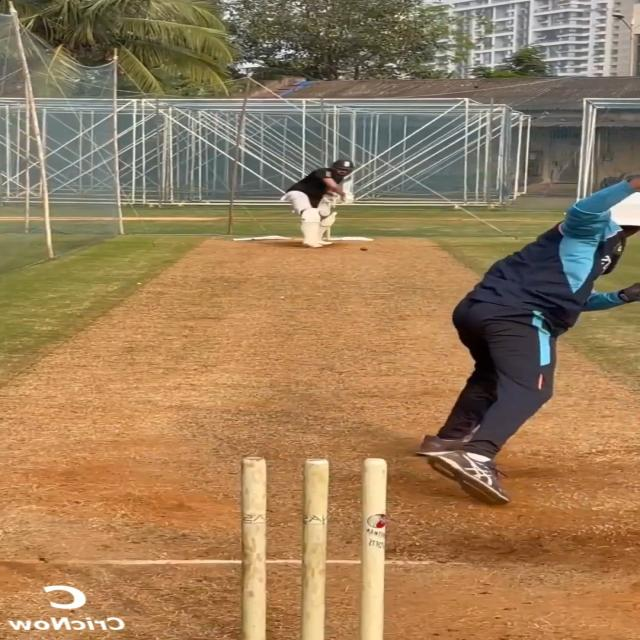ball: (360, 247, 368, 251)
stump: (240, 456, 388, 640)
